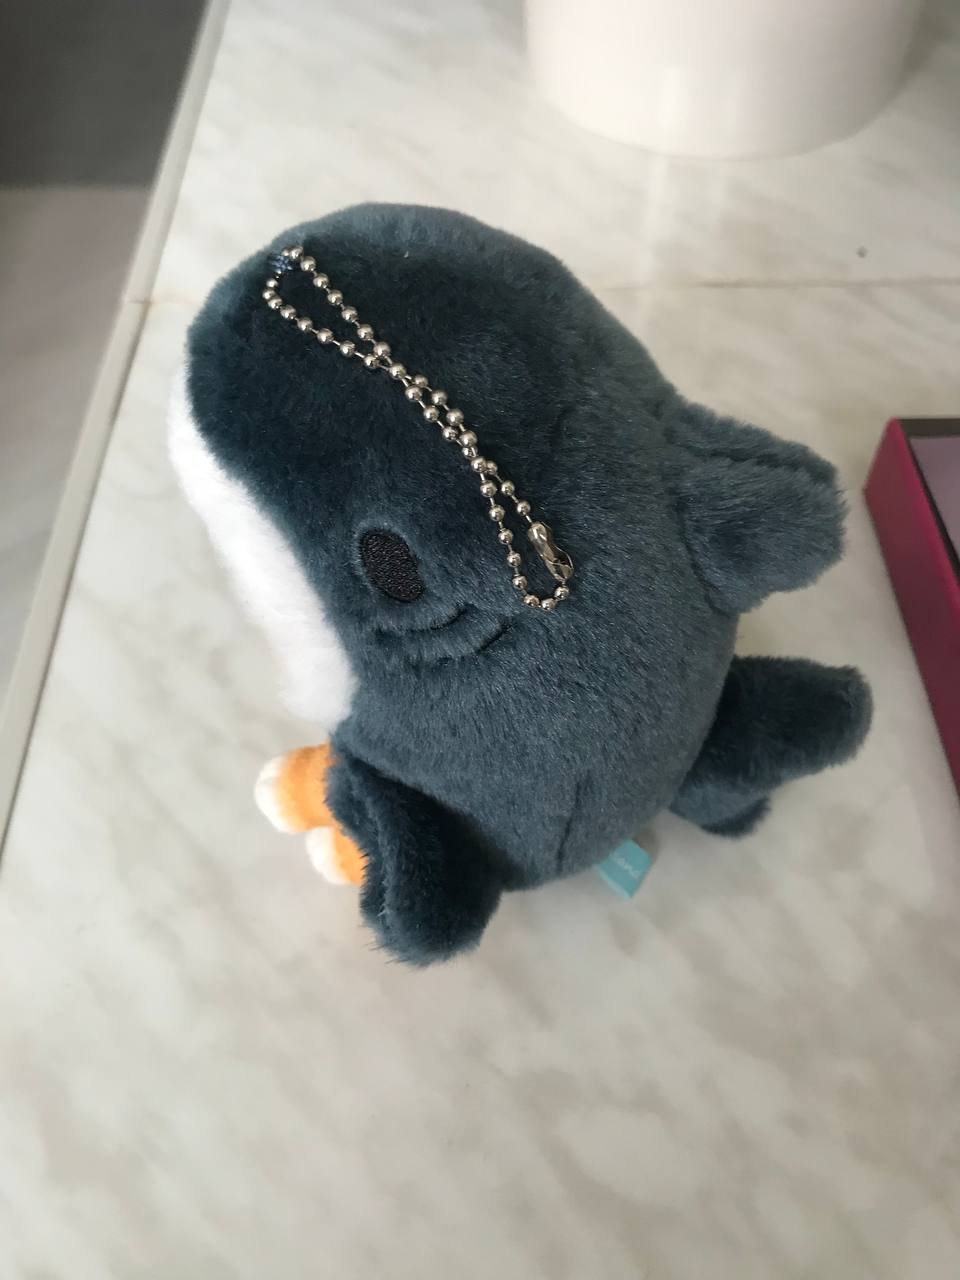cat_shark: (155, 197, 876, 978)
